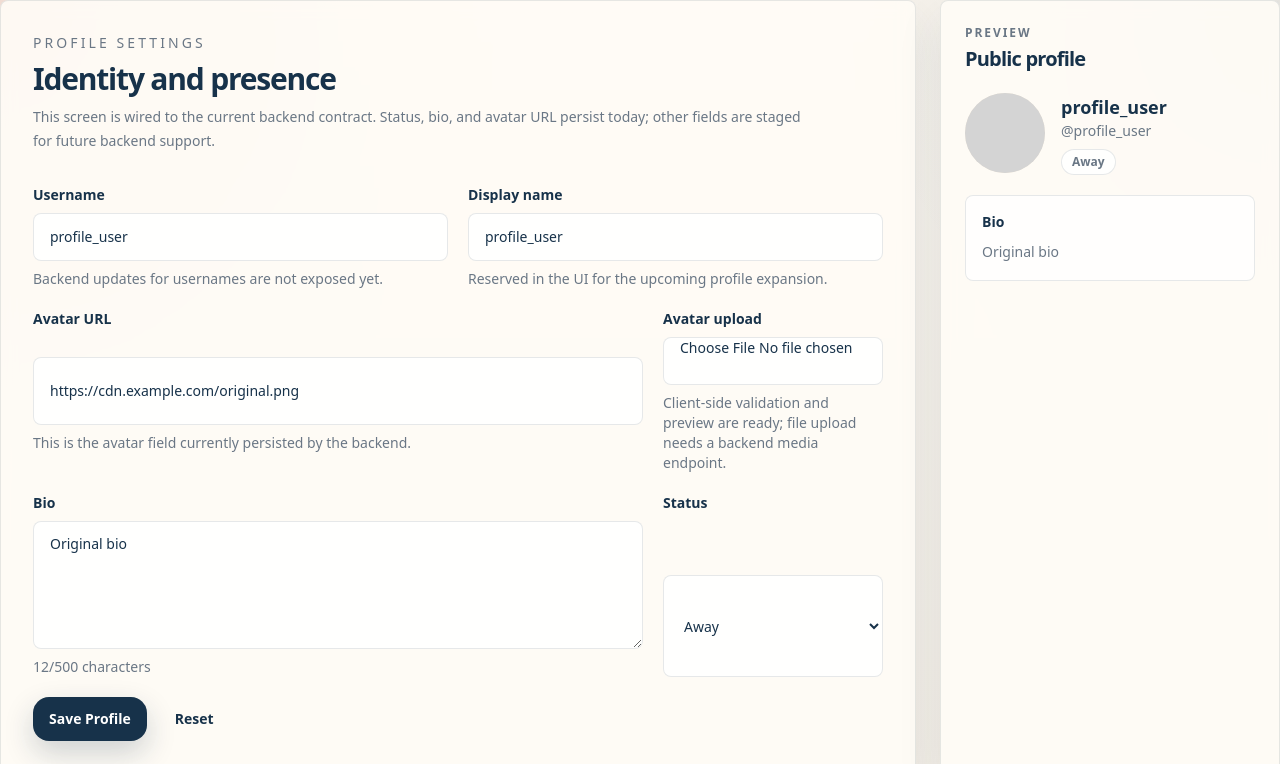
Test case: ProfileForm › updates supported profile fields through the backend contract
This screenshot has width=1280, height=764.
Expected: the field labelled "Username Backend updates for usernames are not exposed yet." is shown, [33,213,448,261]
Replace the text in the field labelled "Avatar URL" with "https://cdn.example.com/updated.png" at (338, 391), box [33,357,643,425]
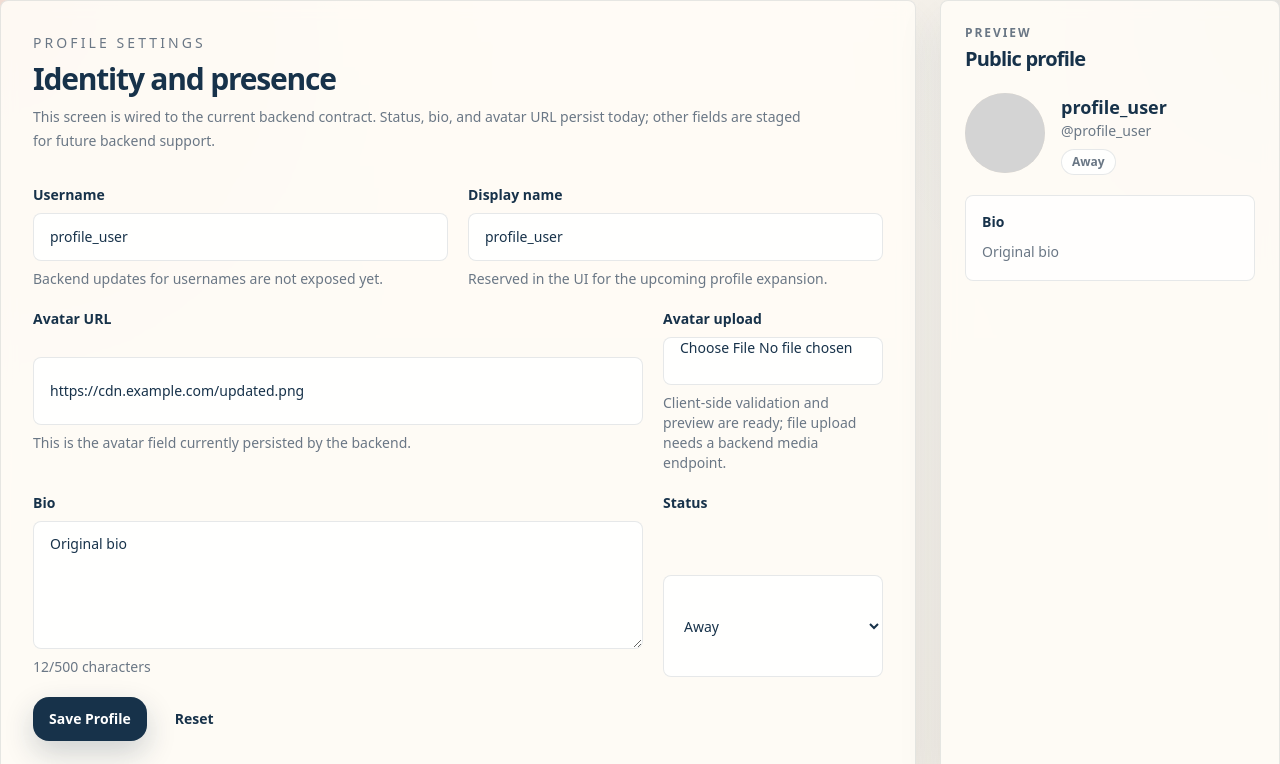
Replace the text in the text box labelled "Bio 12/500 characters" with "Updated bio" at (338, 585), box [33,521,643,649]
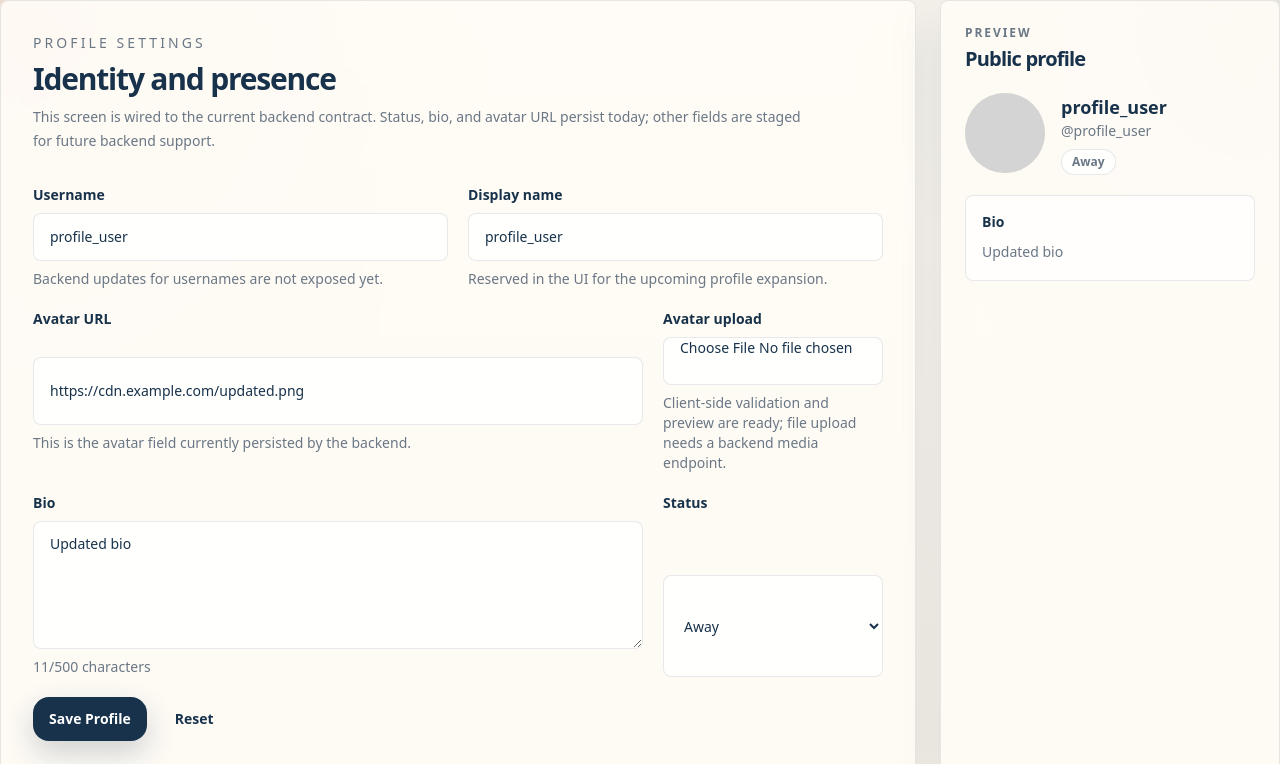
Select "Busy" in the dropdown labelled "Status" at (773, 626), box [663,575,883,677]
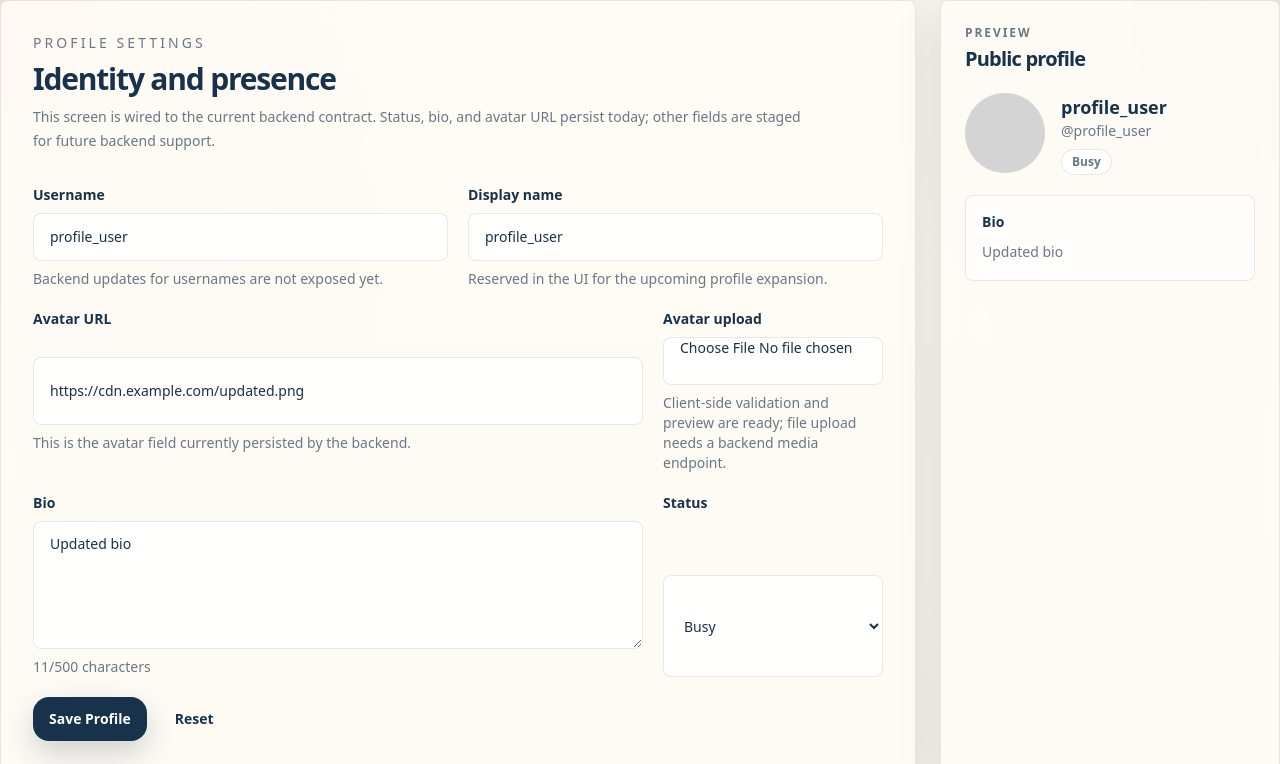
Click the button "Save Profile" at (90, 719), box [33,697,147,741]
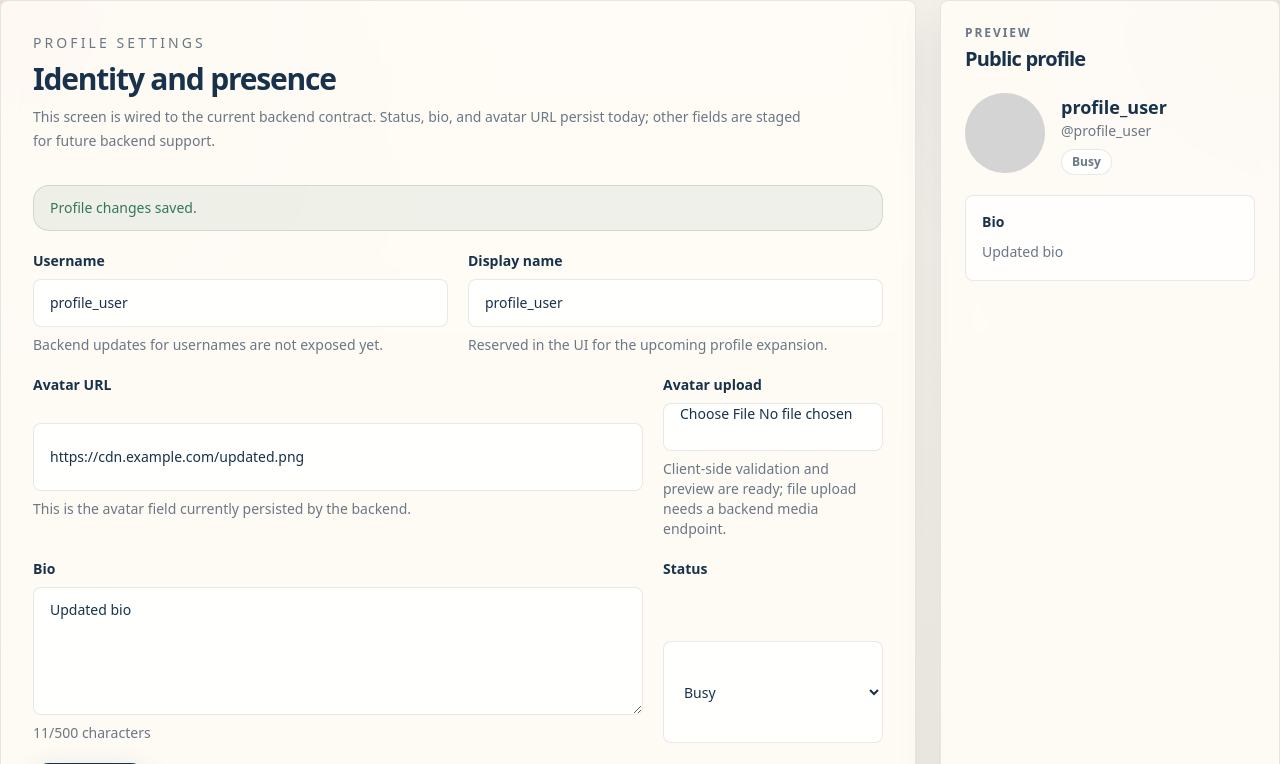
Expected: the text "Profile changes saved." is shown, [33,185,883,231]
